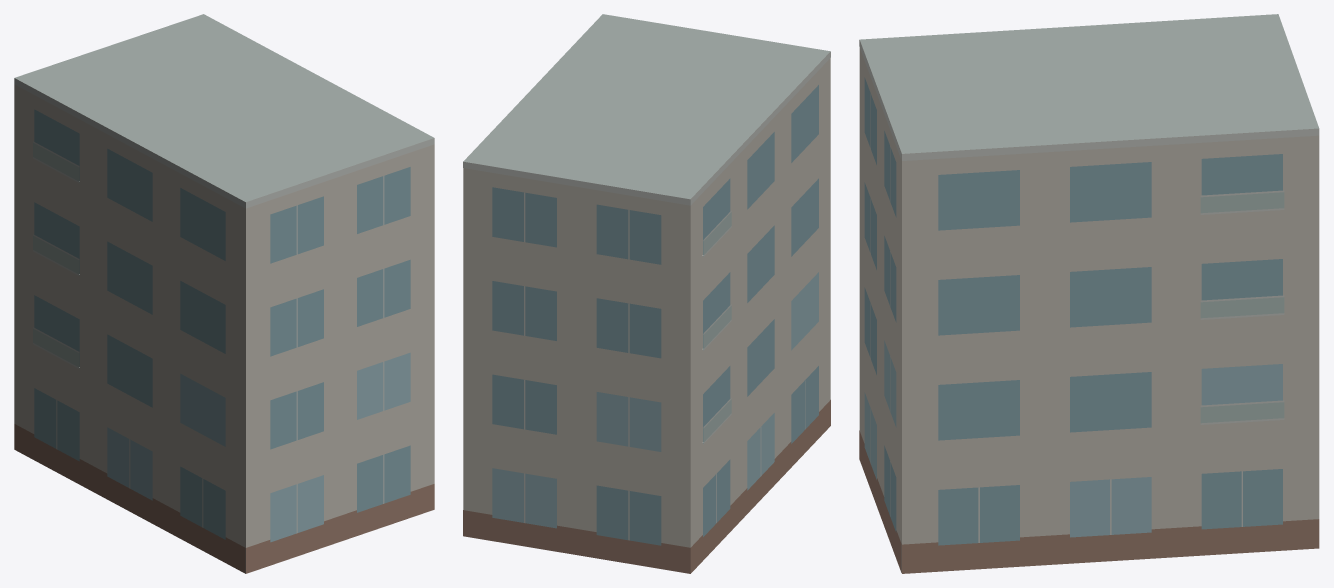
The model's file is survey-upis-32539455.glb.
3 renders of one model, left to right at view 1: azimuth 30°, elevation 25°; view 2: azimuth 150°, elevation 25°; view 3: azimuth 270°, elevation 25°, orthographic. The views are drawn at different scales.
Parts seen in each view (by area): view 1: survey-upis-32539455.tmp; view 2: survey-upis-32539455.tmp; view 3: survey-upis-32539455.tmp.
Boxes of the visible parts, x1,y1,x2,y2 form: survey-upis-32539455.tmp: (14, 14, 434, 573); survey-upis-32539455.tmp: (463, 14, 830, 573); survey-upis-32539455.tmp: (859, 14, 1319, 573).
Bounding box in the file's own units: 10.23 × 14.3 × 14.2.
